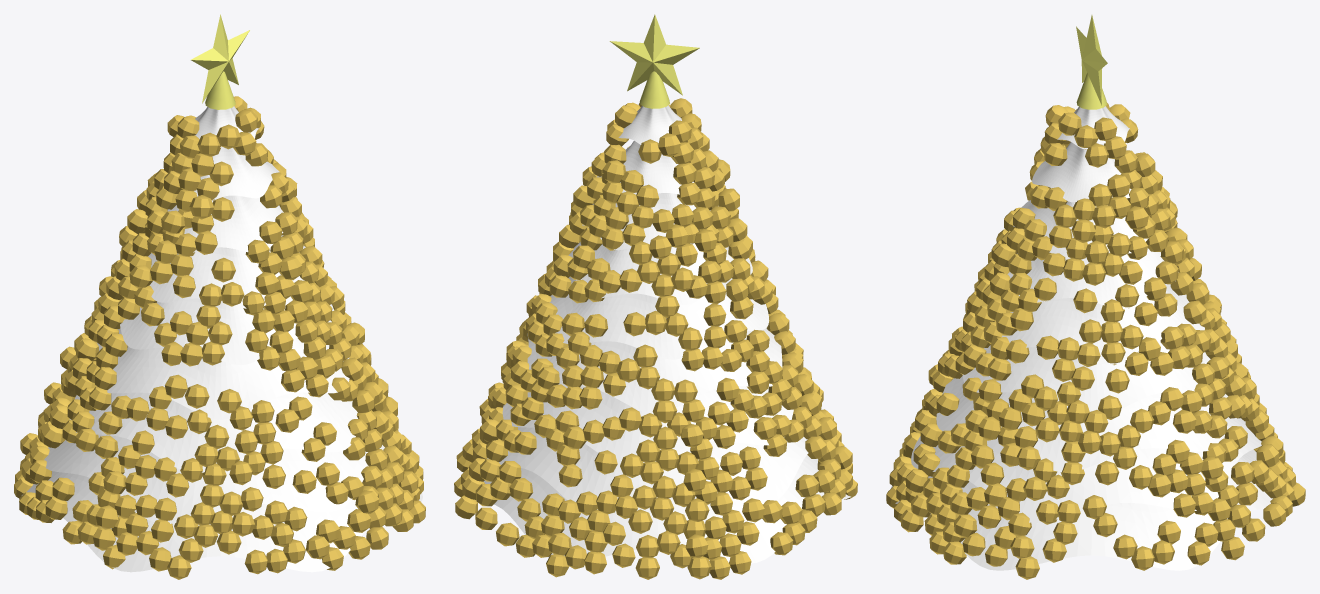
File: tree_500.gltf
The picture shows the model from 3 angles, left to right: view 1: azimuth 30°, elevation 25°; view 2: azimuth 150°, elevation 25°; view 3: azimuth 270°, elevation 25°; orthographic projection.
Visible parts, largest first — view 1: Cone 1, Cone 3, Cone 2, Cone 0, Cone 4, Cone 5, Cone 6, Cone 7, Star, Cone 8, cap; view 2: Cone 1, Cone 4, Cone 0, Cone 3, Cone 2, Star, Cone 5, Cone 7, Cone 8, Cone 6, cap; view 3: Cone 0, Cone 1, Cone 3, Cone 2, Cone 4, Cone 7, Cone 5, Star, Cone 6, Cone 8, cap.
Boxes of the visible parts, box(x1,y1,x2,y2) form: Cone 1: box(44, 434, 384, 523); Cone 3: box(97, 328, 349, 419); Cone 2: box(69, 392, 357, 472); Cone 0: box(21, 471, 422, 572); Cone 4: box(120, 296, 334, 364); Cone 5: box(148, 235, 305, 308); Cone 6: box(167, 195, 283, 252); Cone 7: box(194, 147, 279, 200); Star: box(191, 14, 249, 103); Cone 8: box(195, 106, 259, 147); cap: box(205, 71, 235, 109); Cone 1: box(487, 427, 808, 515); Cone 4: box(550, 277, 769, 359); Cone 0: box(483, 455, 850, 563); Cone 3: box(527, 328, 782, 413); Cone 2: box(502, 386, 793, 464); Star: box(609, 14, 699, 95); Cone 5: box(568, 242, 752, 304); Cone 7: box(597, 141, 698, 199); Cone 8: box(618, 105, 681, 144); Cone 6: box(582, 193, 718, 250); cap: box(639, 71, 669, 108); Cone 0: box(890, 449, 1272, 570); Cone 1: box(911, 417, 1261, 522); Cone 3: box(962, 340, 1210, 411); Cone 2: box(936, 376, 1228, 472); Cone 4: box(1002, 284, 1204, 364); Cone 7: box(1032, 142, 1131, 202); Cone 5: box(1007, 248, 1178, 309); Star: box(1076, 15, 1107, 105); Cone 6: box(1013, 197, 1148, 253); Cone 8: box(1057, 106, 1129, 149); cap: box(1076, 73, 1107, 109).
Size of what is drawn, in the model's own units: 1.9 by 2.61 by 2.01.
